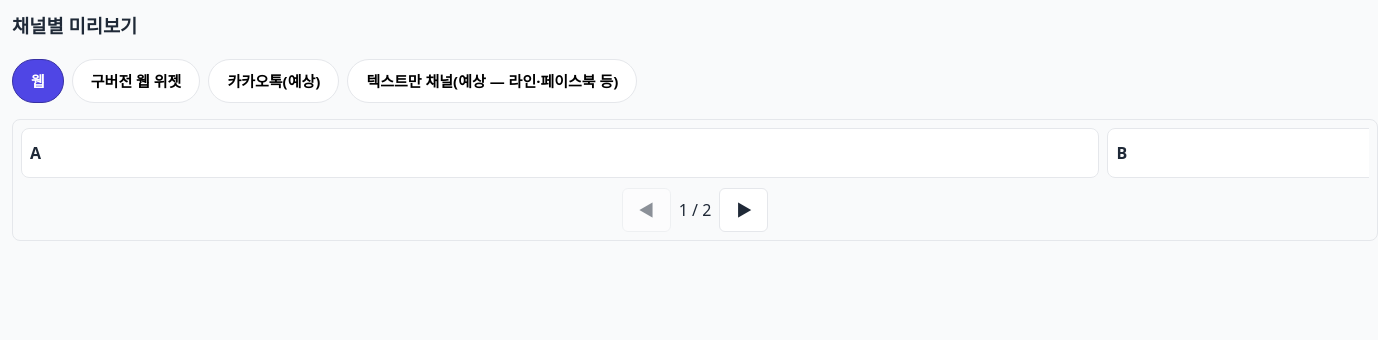
Test case: ChannelPreviewSection — RM-3(§3.3) › 구버전 웹 위젯 탭은 캐러셀을 카드 여러 장으로 강등하고 "바뀐 점"을 보여준다("예상 모습" 배지는 없음)
Click the tab "구버전 웹 위젯".
click(136, 80)  # box [72,58,200,102]
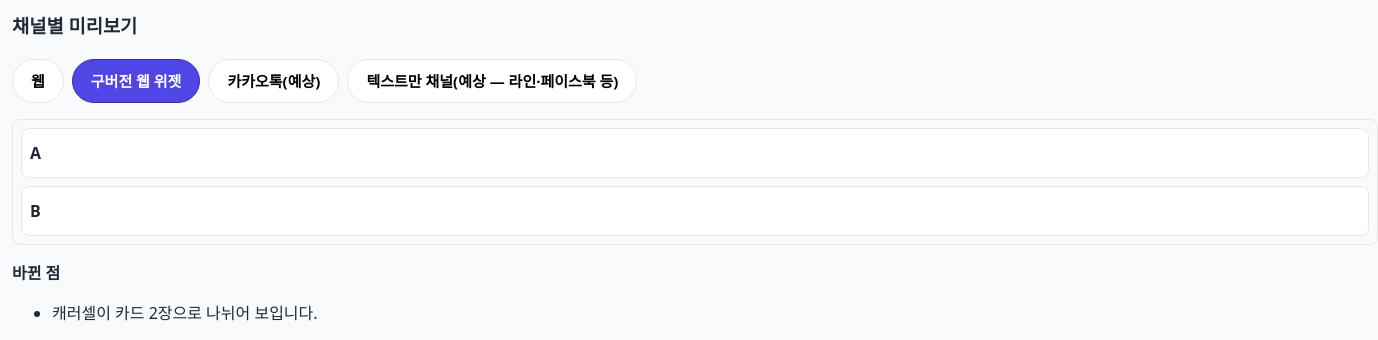
Expected: the text "바뀐 점" is shown, [12,262,60,284]
Expected: the list item "캐러셀이 카드 2장으로 나뉘어 보입니다." is shown, [52,302,318,324]
